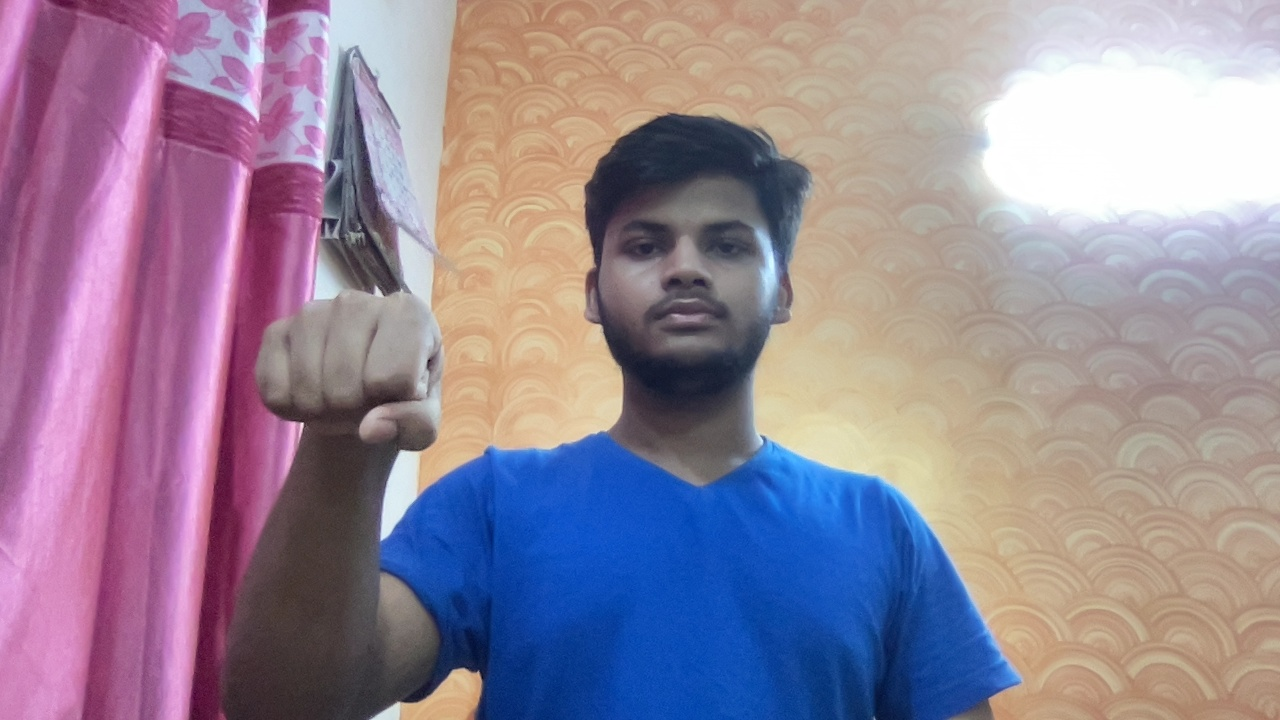yes: (177, 272, 514, 484)
